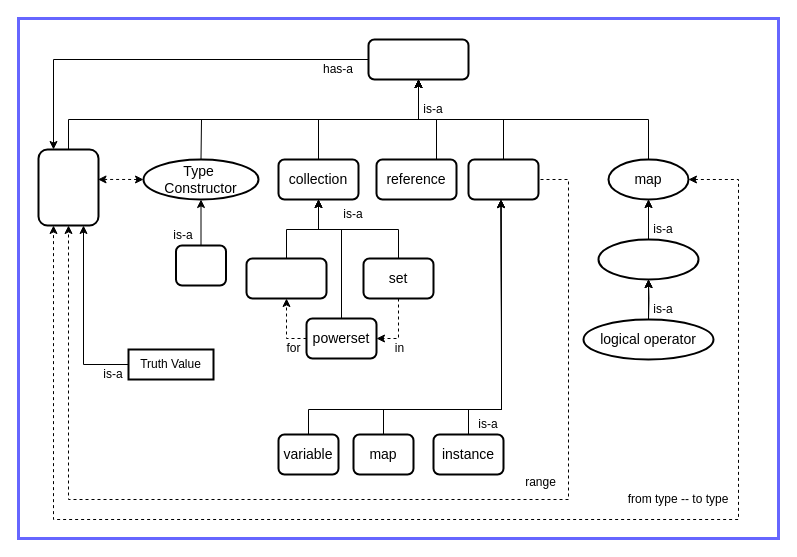
This 797x557 diagram has some shape labels left out. The shapes that lost their labels are listed below. From the top down, each one's centre as x and y in pixels, then its label:
At point (418, 59): "thing".
At point (68, 187): "Type".
At point (503, 179): "term".
At point (200, 265): "Tuple".
At point (286, 278): "natural collection".
At point (648, 259): "predicate".
